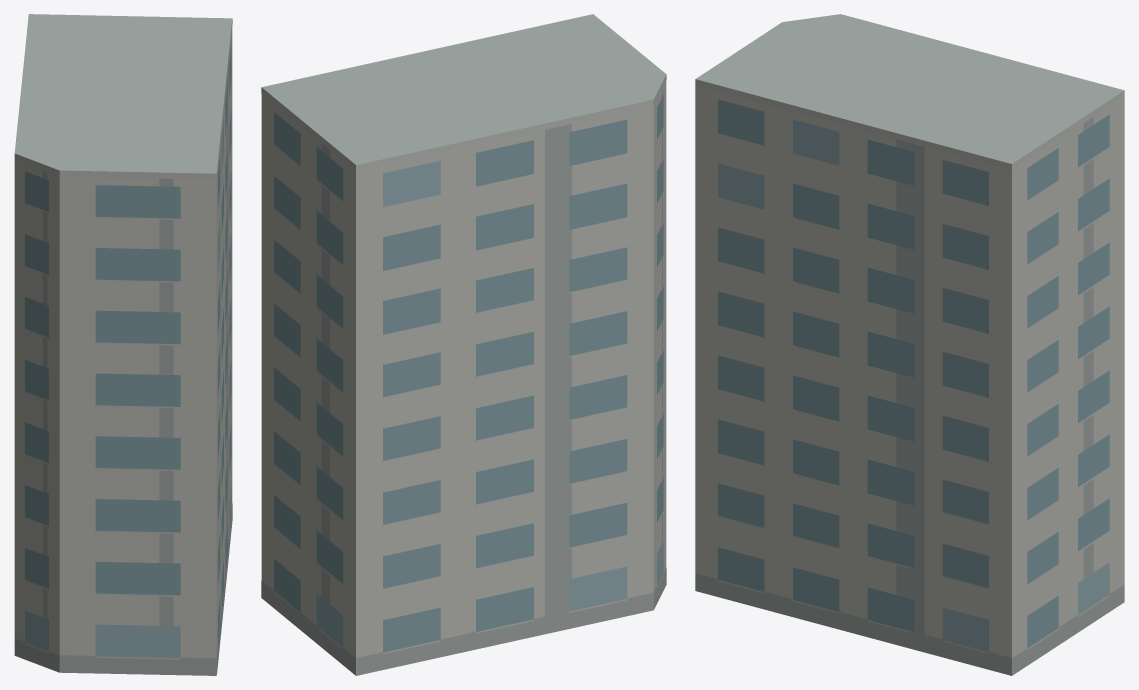
Rendered from survey-upis-32743261.glb.
The picture shows the model from 3 angles, left to right: view 1: azimuth 30°, elevation 25°; view 2: azimuth 150°, elevation 25°; view 3: azimuth 270°, elevation 25°; orthographic projection.
Parts seen in each view (by area): view 1: survey-upis-32743261.tmp; view 2: survey-upis-32743261.tmp; view 3: survey-upis-32743261.tmp.
Boxes of the visible parts, <box> form: survey-upis-32743261.tmp: <box>14,14,232,675</box>; survey-upis-32743261.tmp: <box>261,14,666,675</box>; survey-upis-32743261.tmp: <box>695,14,1124,675</box>.
Size of the model in its own units: 12.39 by 19.7 by 14.98.
